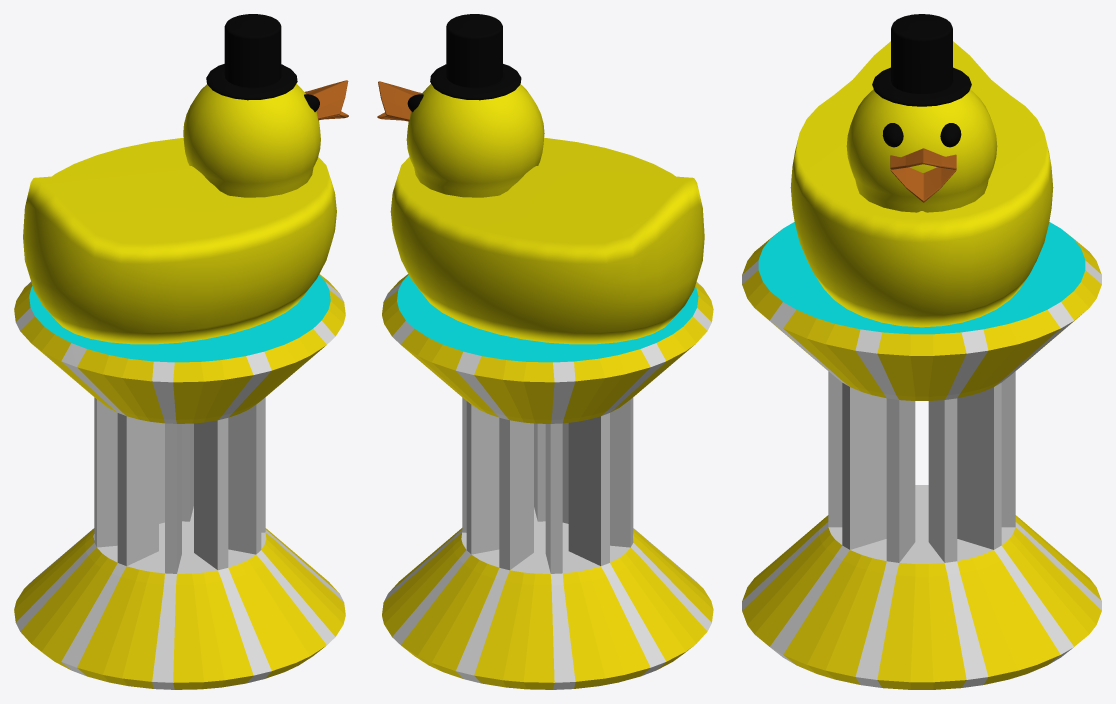
The model's file is Duck Trophy.fbx.
3 renders of one model, left to right at view 1: azimuth 30°, elevation 25°; view 2: azimuth 150°, elevation 25°; view 3: azimuth 270°, elevation 25°, orthographic. The views are drawn at different scales.
Visible parts, largest first — view 1: BottomTrophy, DuckBody, TopTrophy, DuckHead, TopHat, BeackTop; view 2: BottomTrophy, DuckBody, TopTrophy, DuckHead, TopHat, BeackTop; view 3: BottomTrophy, DuckBody, TopTrophy, DuckHead, TopHat, BeackBottom, BeackTop.
Boxes of the visible parts, x1,y1,x2,y2 form: BottomTrophy: (14,397,345,689); DuckBody: (23,138,336,344); TopTrophy: (14,274,345,423); DuckHead: (183,84,320,197); TopHat: (206,14,297,100); BeackTop: (305,80,348,119); BottomTrophy: (382,397,713,689); DuckBody: (390,138,704,344); TopTrophy: (382,274,713,423); DuckHead: (406,84,544,197); TopHat: (430,14,521,100); BeackTop: (378,81,421,120); BottomTrophy: (742,371,1101,689); DuckBody: (790,41,1053,327); TopTrophy: (742,222,1101,400); DuckHead: (846,89,997,212); TopHat: (872,14,971,106); BeackBottom: (890,167,956,202); BeackTop: (890,148,956,169).
Bounding box in the file's own units: 2.17 × 3.85 × 1.98.
